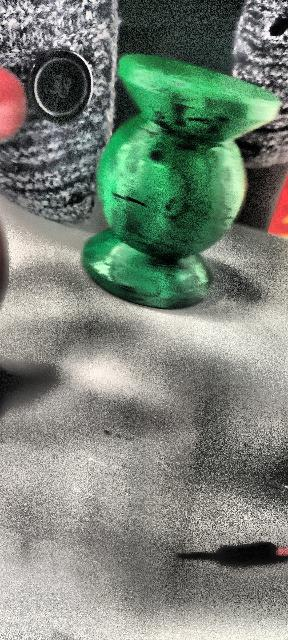green: (82, 53, 280, 310)
